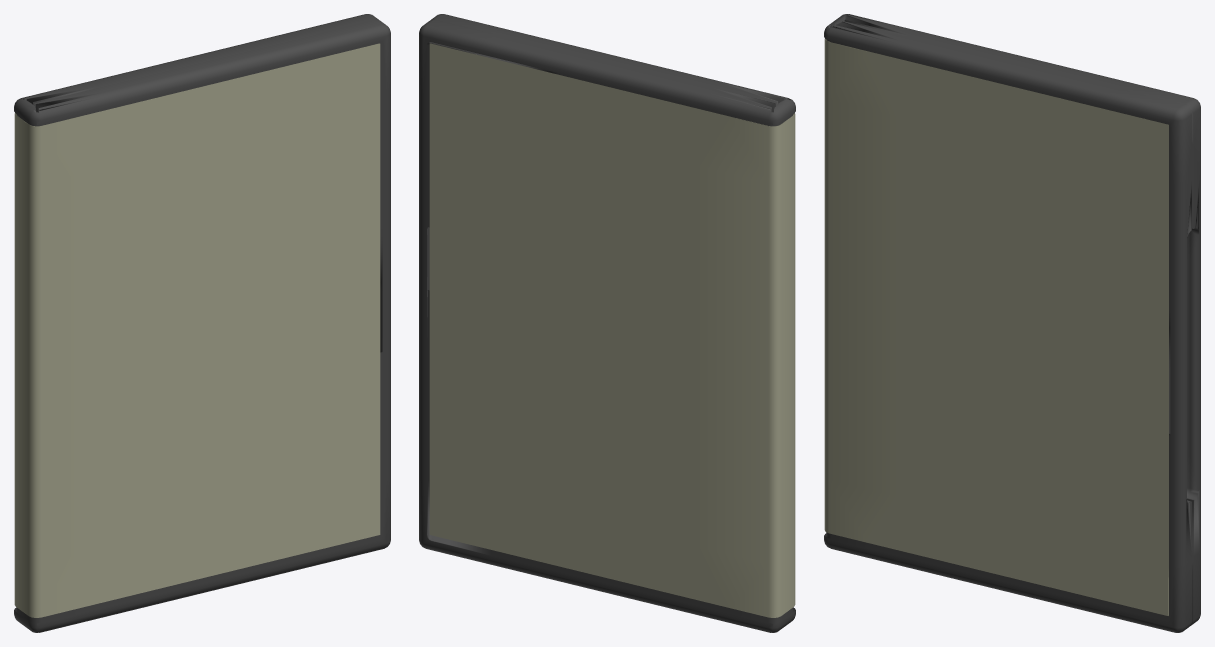
The model's file is DVD case.obj.
3 renders of one model, left to right at view 1: azimuth 30°, elevation 25°; view 2: azimuth 150°, elevation 25°; view 3: azimuth 330°, elevation 25°, orthographic.
Parts seen in each view (by area): view 1: ChamferBo0, ChamferBox; view 2: ChamferBo0, ChamferBox; view 3: ChamferBo0, ChamferBox.
Boxes of the visible parts, x1,y1,x2,y2 form: ChamferBo0: [14, 43, 380, 617]; ChamferBox: [14, 14, 390, 632]; ChamferBo0: [429, 43, 795, 617]; ChamferBox: [419, 14, 795, 632]; ChamferBo0: [824, 39, 1168, 615]; ChamferBox: [824, 14, 1200, 632].
Size of the model in its own units: 137 by 190 by 15.
